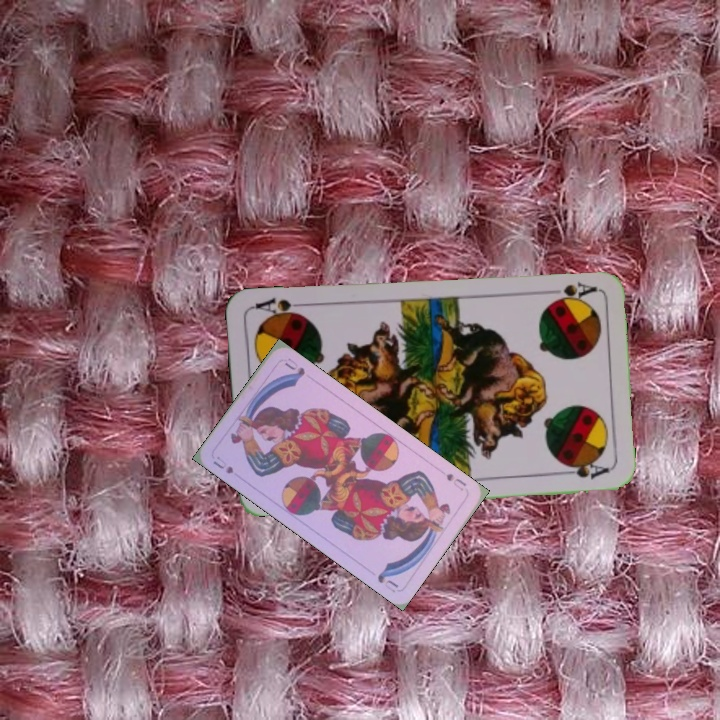SA: (551, 278, 598, 302)
SU: (209, 452, 236, 476), (442, 469, 469, 493)
